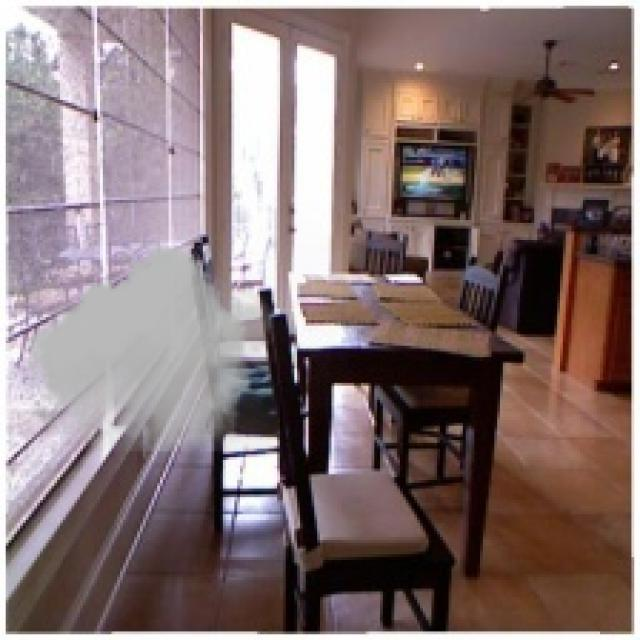Smoke: (23, 246, 280, 451)
